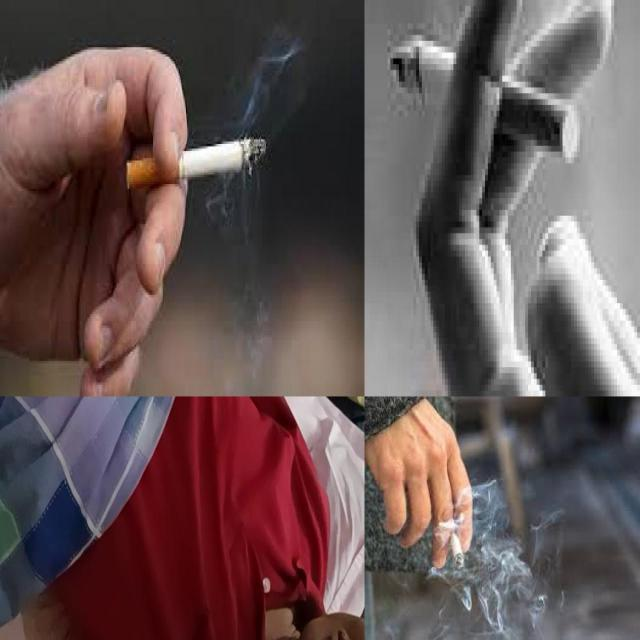smoke: (386, 34, 580, 163), (126, 138, 266, 192), (449, 528, 464, 572)
